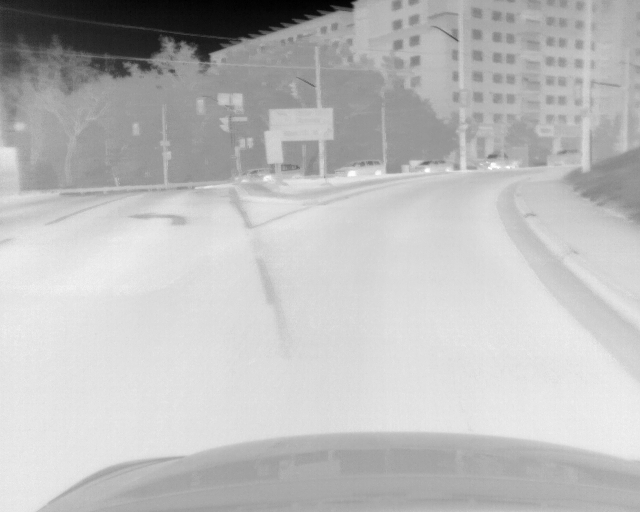car: (334, 160, 382, 178), (265, 164, 301, 183), (475, 154, 515, 171), (411, 159, 453, 174), (233, 168, 261, 182)
